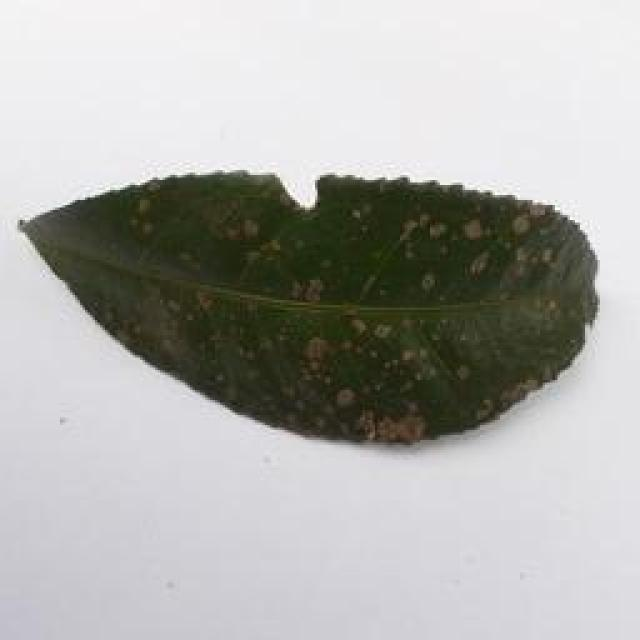Algal Leaf Spot: (15, 164, 610, 454)
